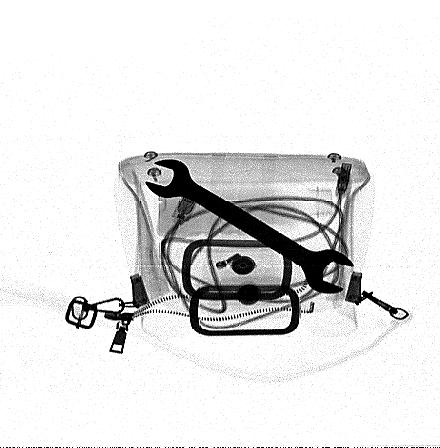Wrench: (144, 158, 357, 296)
